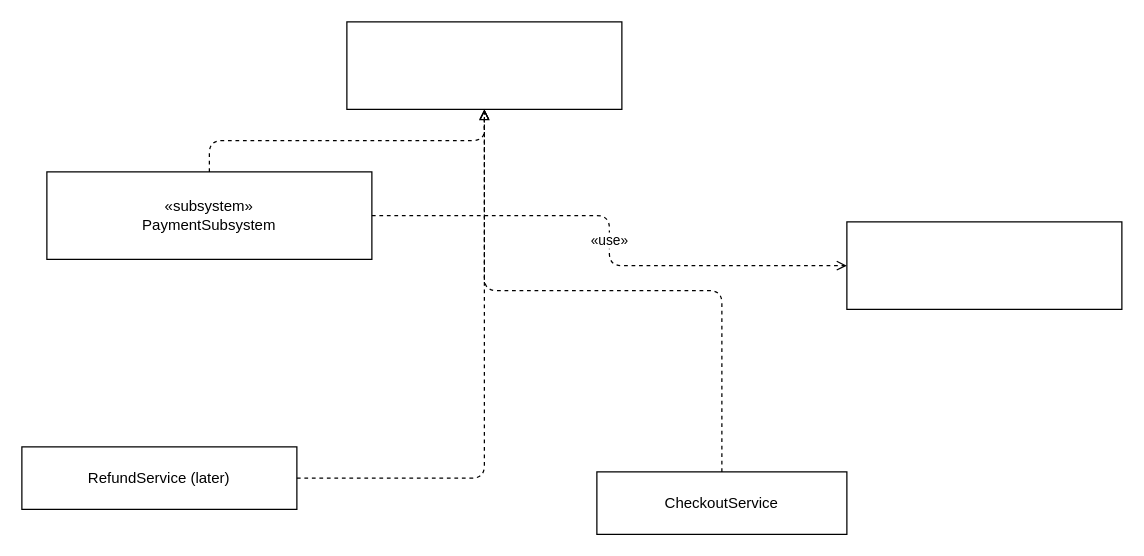
The diagram is 1144 pixels wide and 556 high, and some of its shapes have lost their labels. The shapes that lost their labels are listed below. From the top down, each one's centre as x and y in pixels, then its label:
At (x=484, y=65): "«interface» IPaymentGateway".
At (x=984, y=265): "«interface» IReceiptSender".
